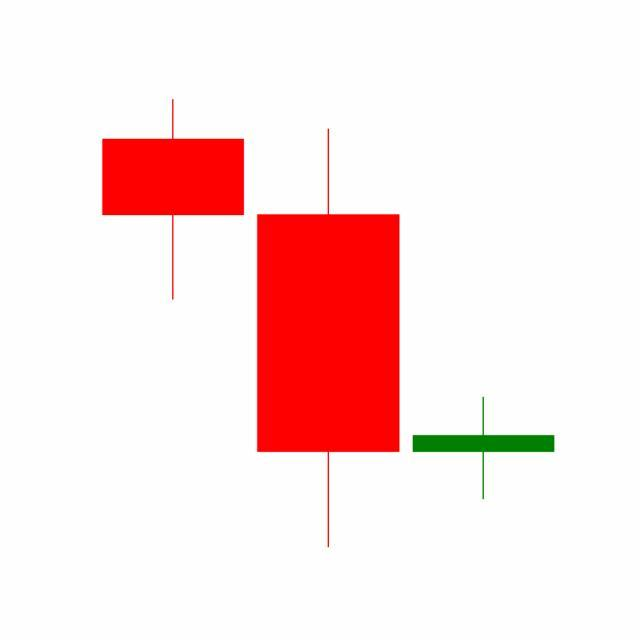Spinning Top: (406, 396, 562, 502)
